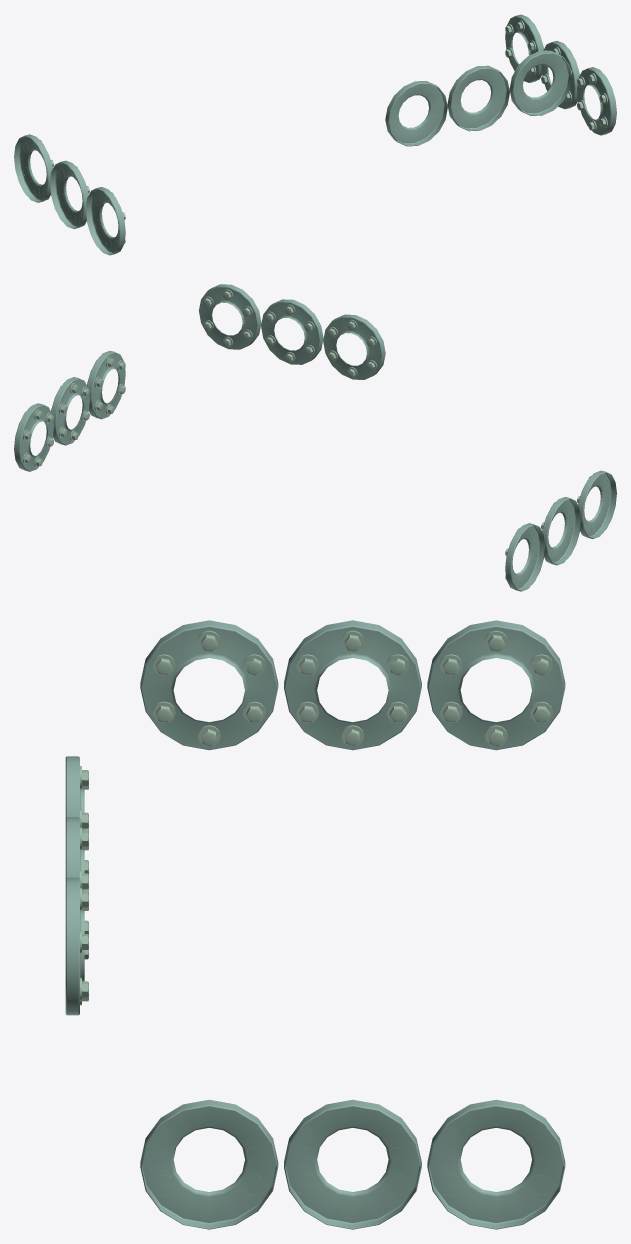
The model's file is PipeComplexLarge_A3_03_End.fbx.
3 renders of one model, top to bottom at view 1: azimuth 30°, elevation 25°; view 2: azimuth 150°, elevation 25°; view 3: azimuth 270°, elevation 25°, orthographic. The views are drawn at different scales.
Visible parts, largest first — view 1: PipeComplexLarge_A3_03_End.001; view 2: PipeComplexLarge_A3_03_End.001; view 3: PipeComplexLarge_A3_03_End.001.
Boxes of the visible parts, left/top/right/bottom form: PipeComplexLarge_A3_03_End.001: left=14, top=14, right=616, bottom=255; PipeComplexLarge_A3_03_End.001: left=14, top=284, right=616, bottom=591; PipeComplexLarge_A3_03_End.001: left=65, top=620, right=565, bottom=1229.
Bounding box in the file's own units: 3.2 × 0.7846 × 1.39.
